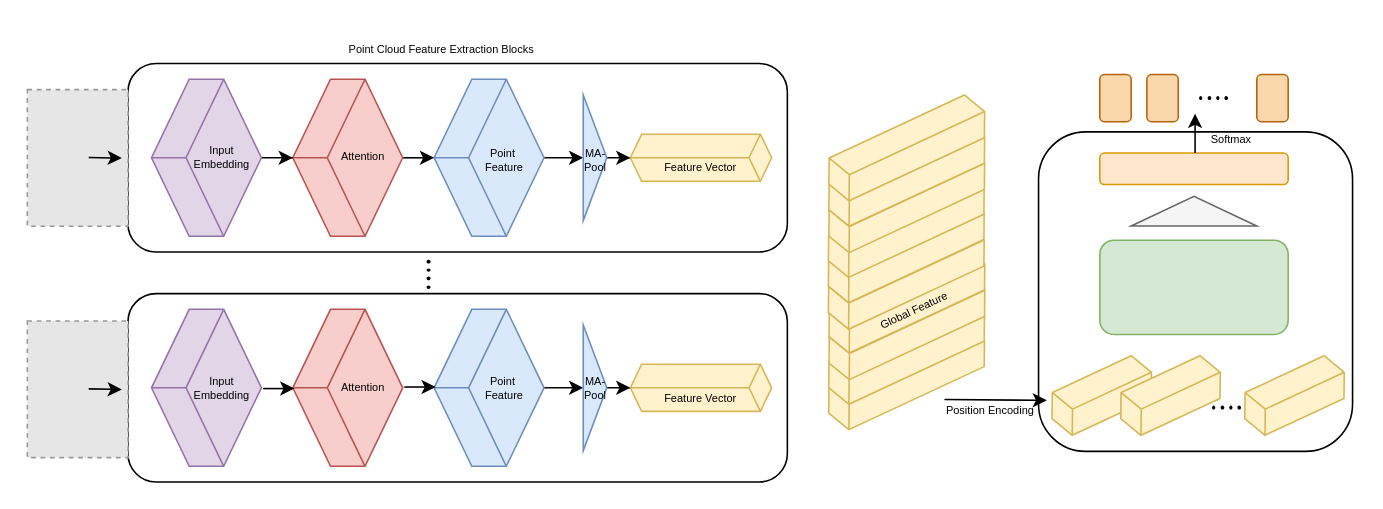
This 1383x509 diagram has some shape labels left out. Grey dashed boxes stand in for pictures. Here are the shapes that lost their labels. From the top down, the centre of each, then its label:
At point (1193, 168): "Linear".
At point (1193, 210): "Global Average Pool".
At point (1193, 286): "Transformer Encoder".
